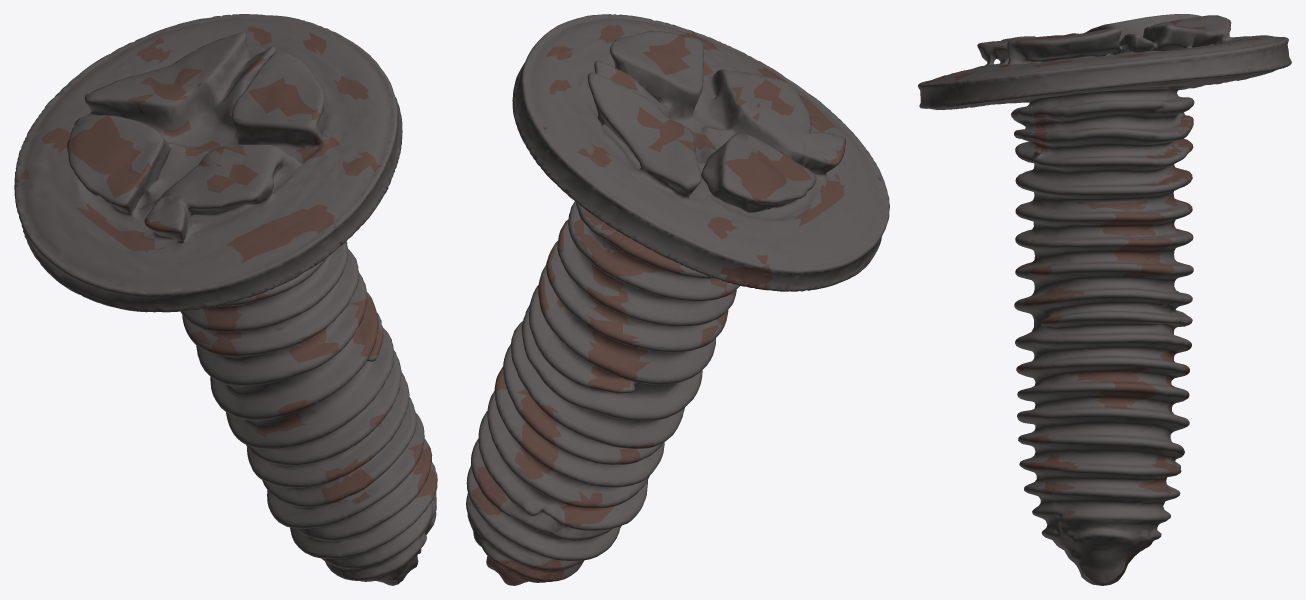
Rendered from tornillo_pintado.fbx.
3 views of the same model, side by side, from view 1: azimuth 30°, elevation 25°; view 2: azimuth 150°, elevation 25°; view 3: azimuth 270°, elevation 25° (orthographic). The views are drawn at different scales.
Visible parts, largest first — view 1: tmplaaged1e.ply; view 2: tmplaaged1e.ply; view 3: tmplaaged1e.ply.
Part boxes in pixels (x1,y1,x2,y2): tmplaaged1e.ply: (14,14,437,585); tmplaaged1e.ply: (466,14,889,585); tmplaaged1e.ply: (918,14,1291,585).
Size of the model in its own units: 144 by 199 by 132.
